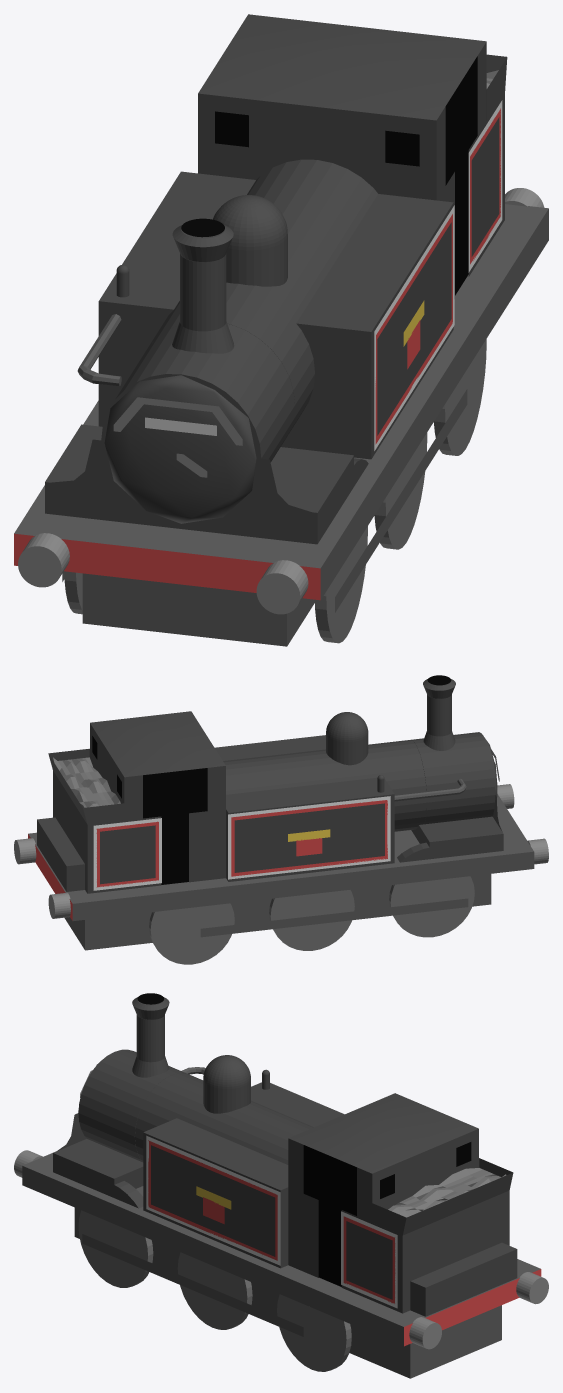
The model's file is lbscr-a1-br.dae.
The picture shows the model from 3 angles, top to bottom: view 1: azimuth 30°, elevation 25°; view 2: azimuth 150°, elevation 25°; view 3: azimuth 270°, elevation 25°; orthographic projection. The views are drawn at different scales.
Visible parts, largest first — view 1: Plane_020, Plane_011, Plane_003, Cylinder_006, Sphere_001, Plane_001, Plane_019, Cube_001, Cylinder_007, Plane_025, Plane_004, Plane_002 (+21 smaller); view 2: Plane_011, Plane_001, Cylinder_006, Plane, Plane_003, Cylinder_007, Plane_015, Cube_001, Cylinder_001, Cylinder_003, Cylinder, Plane_004 (+22 smaller); view 3: Plane, Plane_011, Plane_020, Plane_003, Cylinder_006, Cube_001, Cylinder_007, Plane_015, Plane_019, Cube, Plane_016, Cylinder_005 (+18 smaller).
Part boxes in pixels (bbox=[...]): Plane_020: bbox=[281, 106, 454, 459]; Plane_011: bbox=[14, 204, 548, 599]; Plane_003: bbox=[198, 14, 486, 120]; Cylinder_006: bbox=[149, 159, 377, 439]; Sphere_001: bbox=[104, 375, 256, 523]; Plane_001: bbox=[98, 93, 317, 426]; Plane_019: bbox=[296, 194, 453, 331]; Cube_001: bbox=[82, 573, 314, 646]; Cylinder_007: bbox=[101, 324, 294, 462]; Plane_025: bbox=[181, 447, 353, 544]; Plane_004: bbox=[99, 171, 255, 309]; Plane_002: bbox=[14, 533, 320, 600]; Plane_011: bbox=[28, 794, 534, 920]; Plane_001: bbox=[189, 766, 394, 882]; Cylinder_006: bbox=[223, 740, 426, 831]; Plane: bbox=[53, 723, 161, 893]; Plane_003: bbox=[90, 711, 225, 777]; Cylinder_007: bbox=[411, 732, 495, 824]; Plane_015: bbox=[92, 736, 207, 884]; Cube_001: bbox=[64, 874, 491, 950]; Cylinder_001: bbox=[149, 903, 234, 964]; Cylinder_003: bbox=[389, 876, 474, 937]; Cylinder: bbox=[269, 890, 354, 950]; Plane_004: bbox=[226, 777, 394, 881]; Plane: bbox=[341, 1129, 509, 1313]; Plane_011: bbox=[22, 1151, 540, 1346]; Plane_020: bbox=[143, 1132, 318, 1277]; Plane_003: bbox=[288, 1093, 478, 1173]; Cylinder_006: bbox=[135, 1073, 313, 1164]; Cube_001: bbox=[74, 1207, 501, 1378]; Cylinder_007: bbox=[78, 1049, 189, 1162]; Plane_015: bbox=[303, 1142, 471, 1286]; Plane_019: bbox=[143, 1118, 288, 1267]; Cube: bbox=[410, 1242, 517, 1316]; Plane_016: bbox=[372, 1158, 513, 1235]; Cylinder_005: bbox=[277, 1294, 351, 1371].
Bounding box in the file's own units: 4.96 × 4.96 × 2.59.
